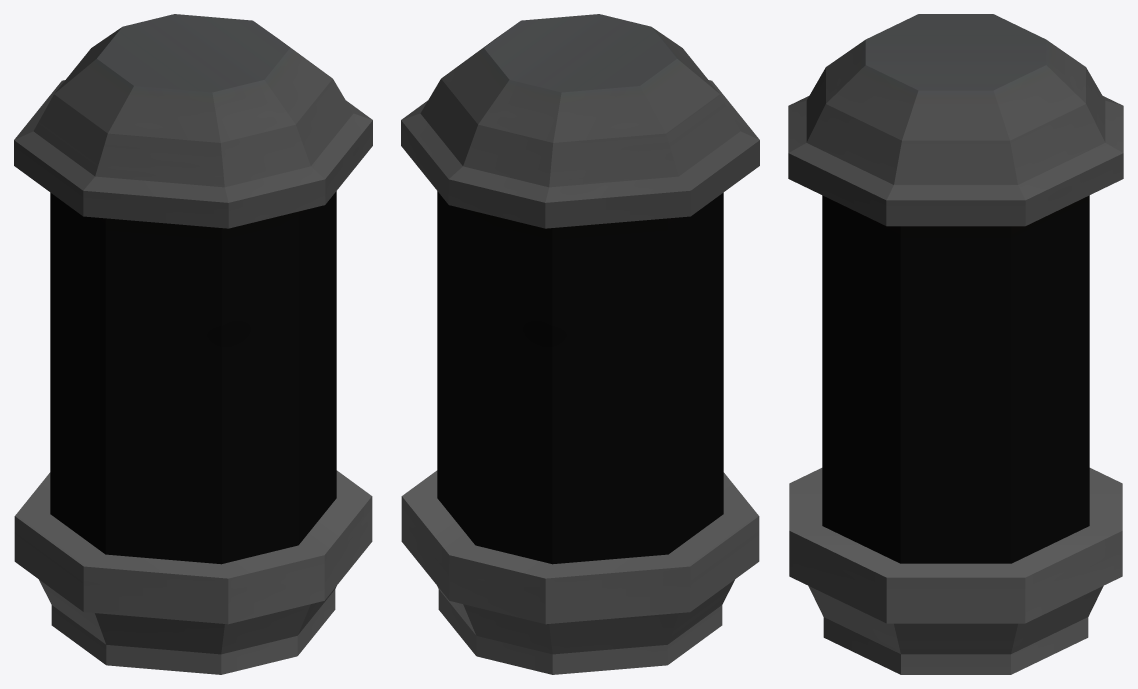
File: Asset_Nodo.fbx
3 renders of one model, left to right at view 1: azimuth 30°, elevation 25°; view 2: azimuth 150°, elevation 25°; view 3: azimuth 270°, elevation 25°, orthographic.
Parts seen in each view (by area): view 1: VidrioExterior, Capsula; view 2: VidrioExterior, Capsula; view 3: Capsula, VidrioExterior.
Part boxes in pixels (box(x1,y1,x2,y2)): VidrioExterior: box(50, 191, 336, 564); Capsula: box(14, 14, 372, 674); VidrioExterior: box(437, 191, 723, 564); Capsula: box(401, 14, 759, 674); Capsula: box(788, 14, 1123, 674); VidrioExterior: box(822, 195, 1089, 563).
Size of the model in its own units: 16.48 by 30.66 by 16.43.
